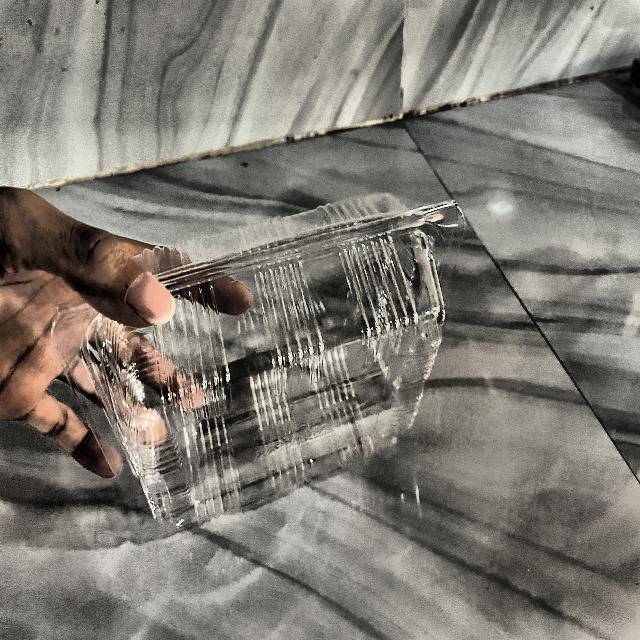plastic container: (59, 218, 463, 546)
